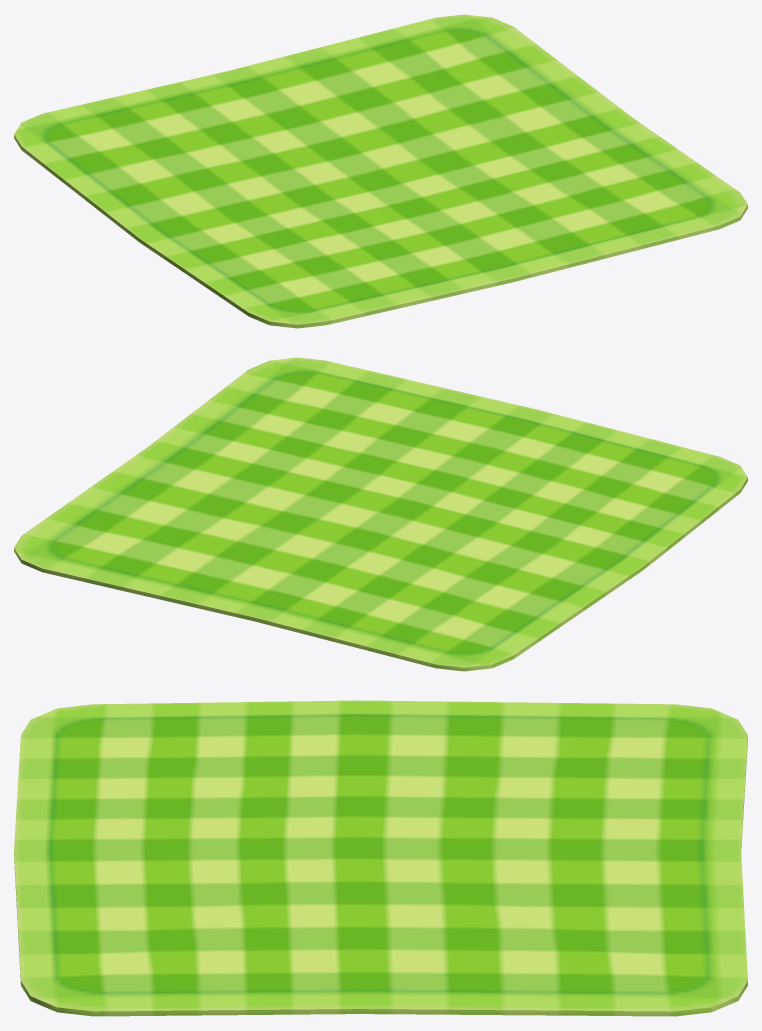
File: set_handtowel_02.fbx
The picture shows the model from 3 angles, top to bottom: view 1: azimuth 30°, elevation 25°; view 2: azimuth 150°, elevation 25°; view 3: azimuth 270°, elevation 25°; orthographic projection. The views are drawn at different scales.
Parts seen in each view (by area): view 1: set_handtowel_02; view 2: set_handtowel_02; view 3: set_handtowel_02.
Boxes of the visible parts, x1,y1,x2,y2 form: set_handtowel_02: (14,14,747,328); set_handtowel_02: (14,357,747,671); set_handtowel_02: (14,700,747,1016).
Bounding box in the file's own units: 20.25 × 0.15 × 20.19.
